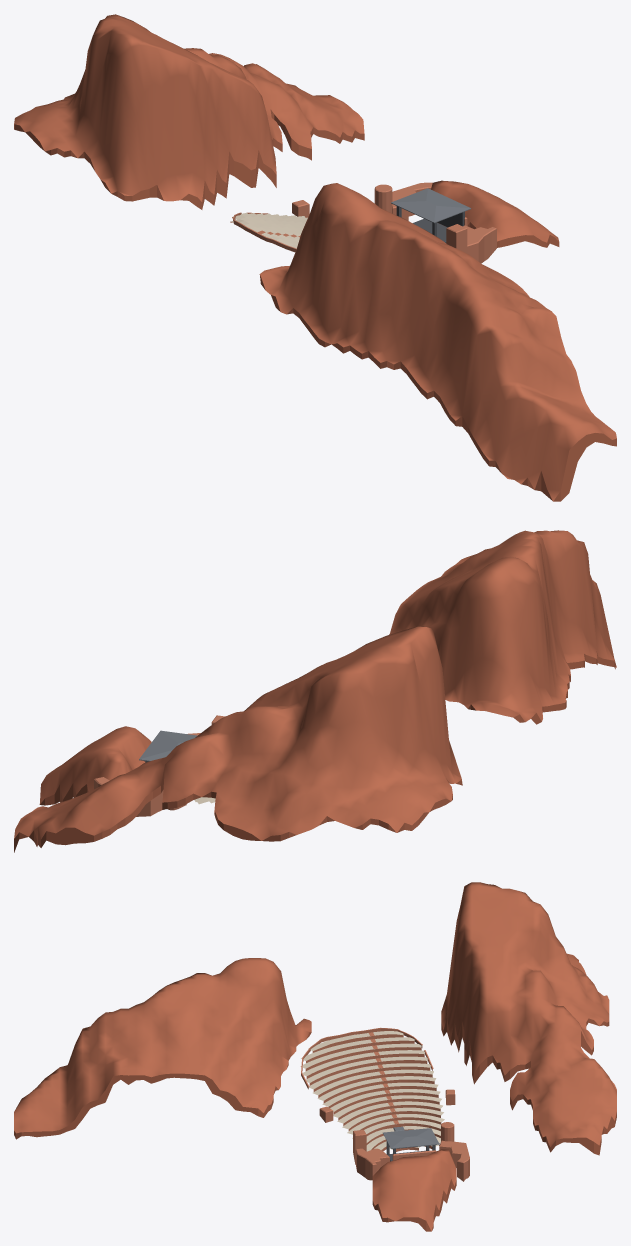
Rendered from den-red-rocks.glb.
The picture shows the model from 3 angles, top to bottom: view 1: azimuth 30°, elevation 25°; view 2: azimuth 150°, elevation 25°; view 3: azimuth 270°, elevation 25°; orthographic projection. The views are drawn at different scales.
Parts seen in each view (by area): view 1: Red Rocks Amphitheatre; view 2: Red Rocks Amphitheatre; view 3: Red Rocks Amphitheatre.
Boxes of the visible parts, x1,y1,x2,y2 form: Red Rocks Amphitheatre: [14, 14, 616, 501]; Red Rocks Amphitheatre: [14, 530, 616, 852]; Red Rocks Amphitheatre: [14, 882, 616, 1231].
Size of the model in its own units: 200 by 124 by 316.
